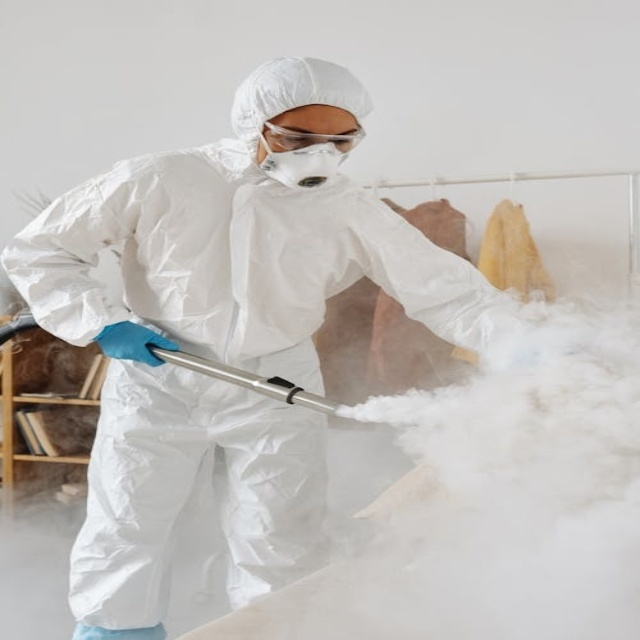Gafas: (260, 120, 364, 156)
Guantes: (90, 316, 179, 368)
Mascara: (257, 130, 356, 190)
